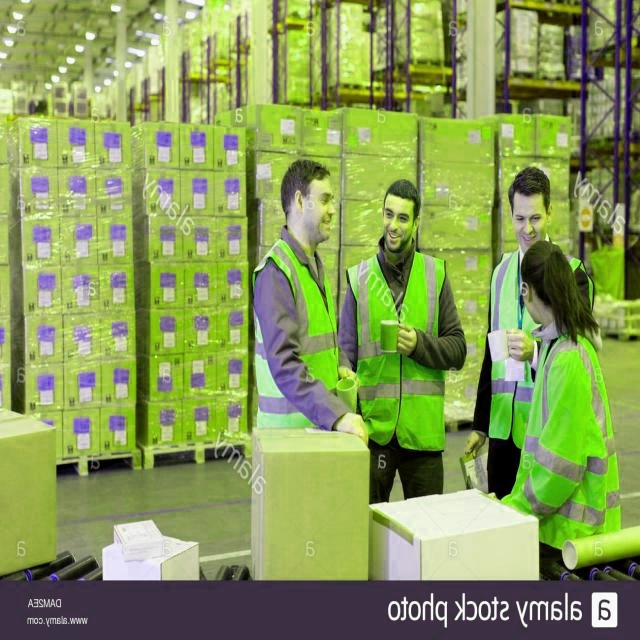Con_Chaleco: (520, 344, 616, 531), (347, 255, 449, 426), (254, 241, 338, 427)
Sin_Casco_Mascarrilla: (280, 160, 335, 240), (522, 239, 572, 316), (508, 165, 549, 241), (382, 177, 422, 249)
